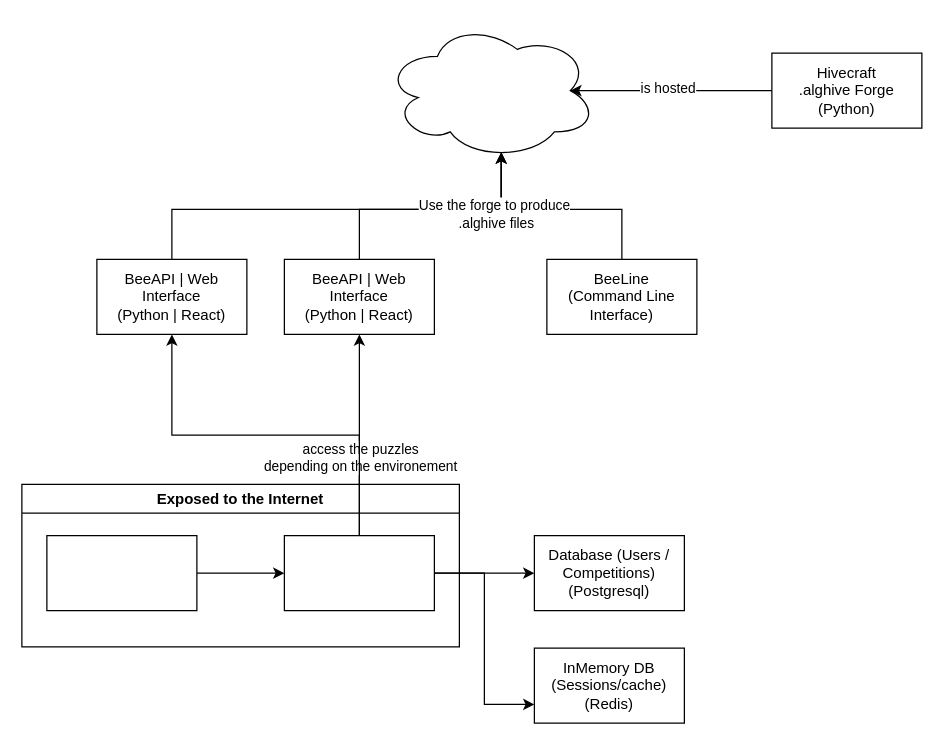
This 944x745 diagram has some shape labels left out. Each missing label, with the centre of its shape:
"AlgoHive Server" belongs at point 358,572.
"AlgoHive WebPage" belongs at point 121,572.
"PiP Host the Hivecraft forge module" belongs at point 490,90.
